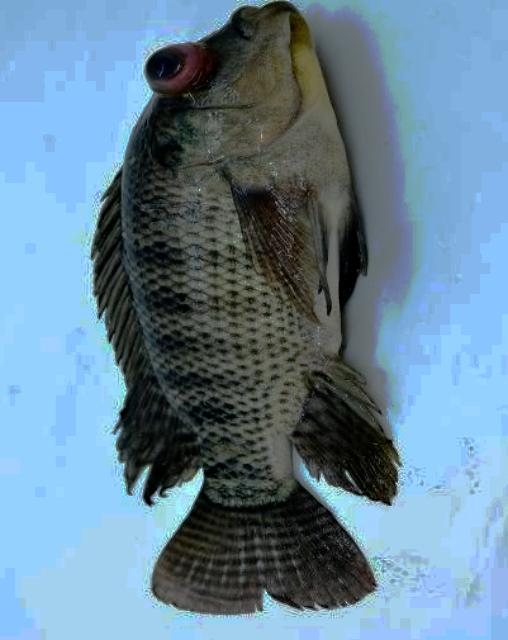Streptococcus: (94, 2, 398, 613)
